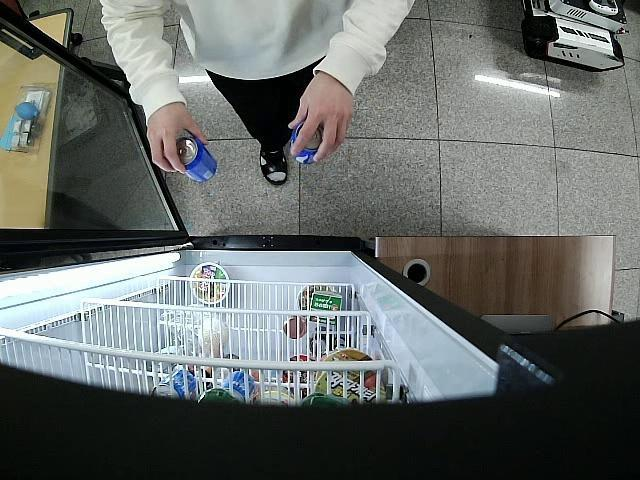13_pocariSweat: (172, 135, 218, 184), (289, 122, 324, 166)
